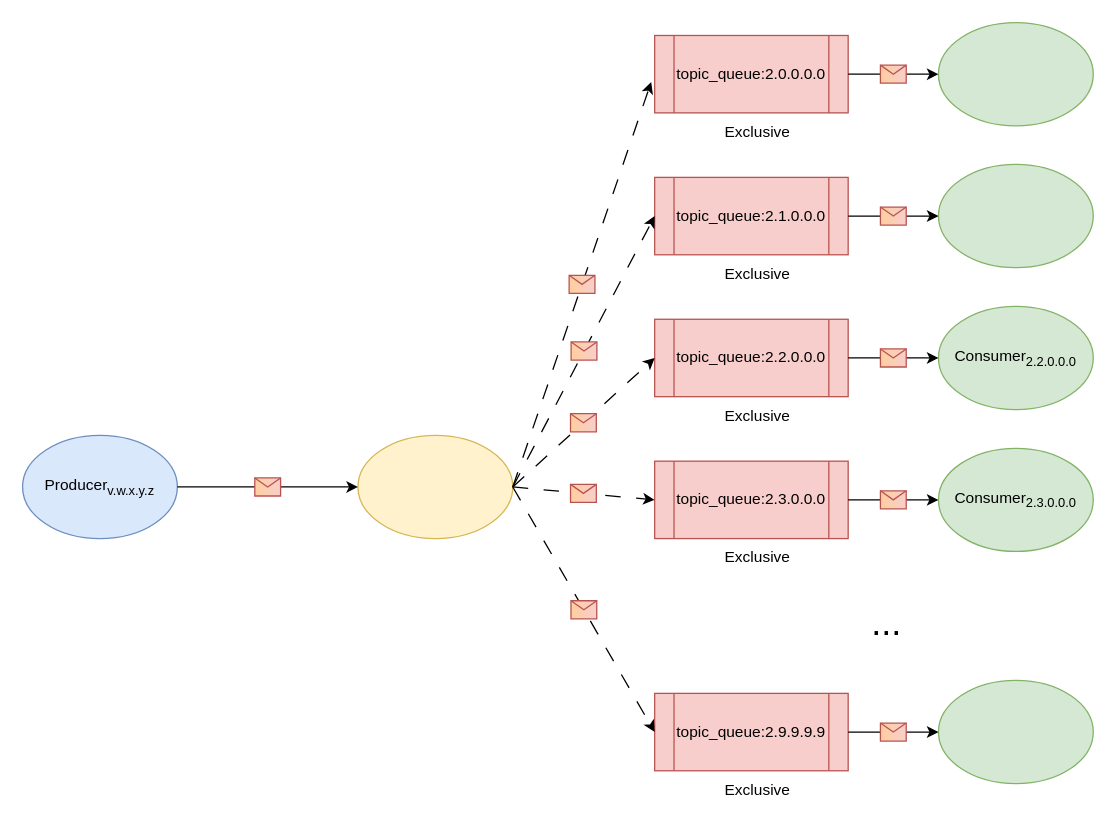
This 1116x832 diagram has some shape labels left out. Here are the shapes that lost their labels. From the top down, the centre of each, then its label:
At pixel 1015 73: "Consumer 2.0.0.0.0".
At pixel 1015 215: "Consumer 2.1.0.0.0".
At pixel 435 486: "Exchange state_change/ state_notification".
At pixel 1015 731: "Consumer 2.9.9.9.9".
